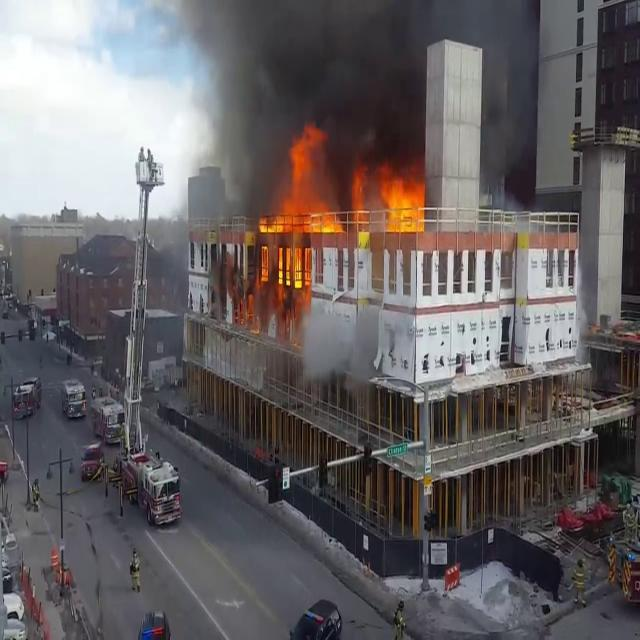Fire: (256, 148, 428, 270)
Smoke: (173, 1, 431, 188)
